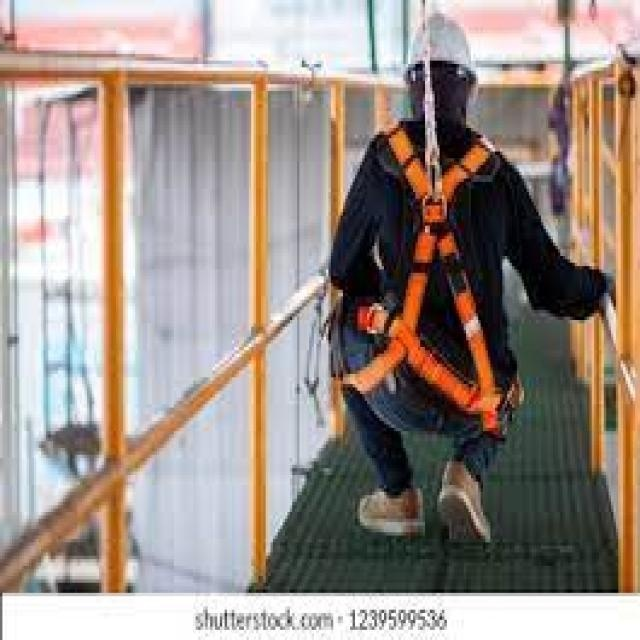Arnes_seguridad: (304, 117, 508, 441)
